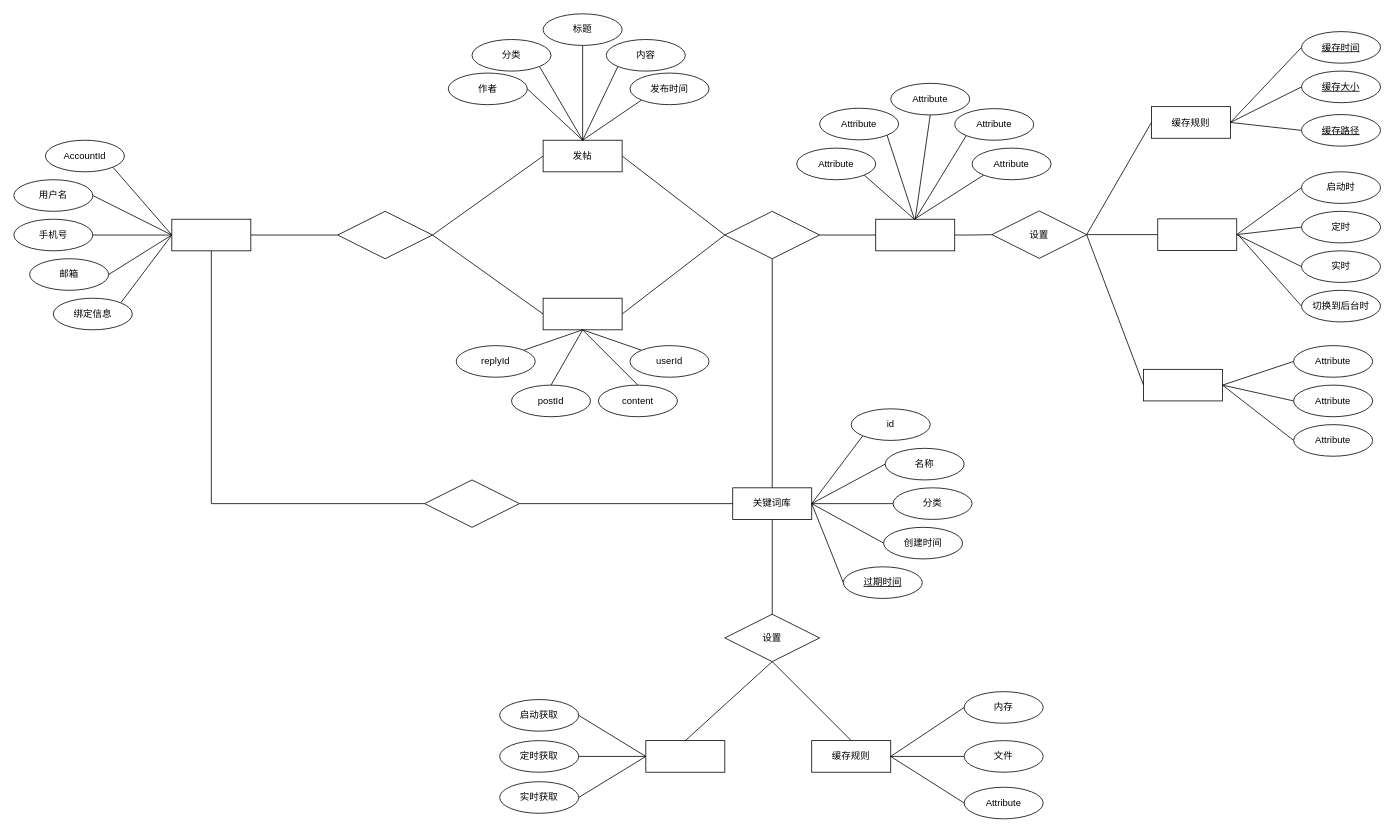
Some shapes in this 1394 by 833 pixel diagram are drawn without their labels. The shapes that lost their labels are listed below. From the top down, each one's centre as x and y in pixels, then its label:
At point 211,234: "用户".
At point 385,235: "使用".
At point 772,235: "分析".
At point 915,234: "声量数据".
At point 1197,234: "发送策略".
At point 582,313: "回帖".
At point 1183,385: "Entity".
At point 471,503: "获取".
At point 685,756: "获取规则".
